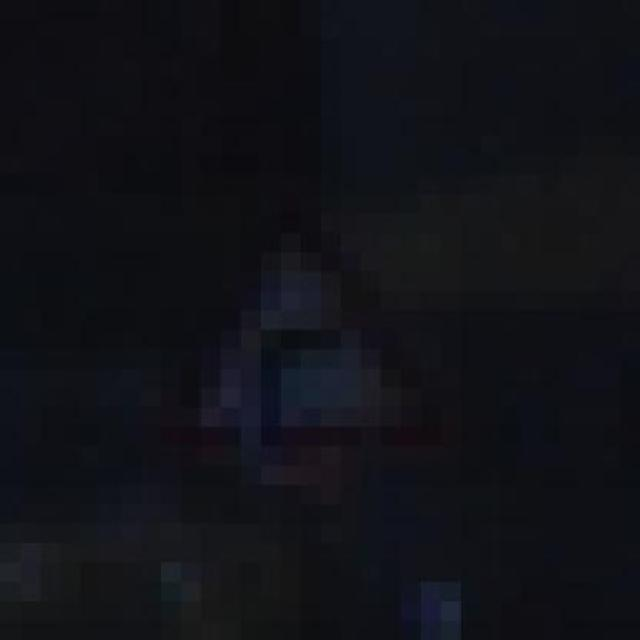Dangerous Rright Curve Ahead: (109, 184, 469, 476)
